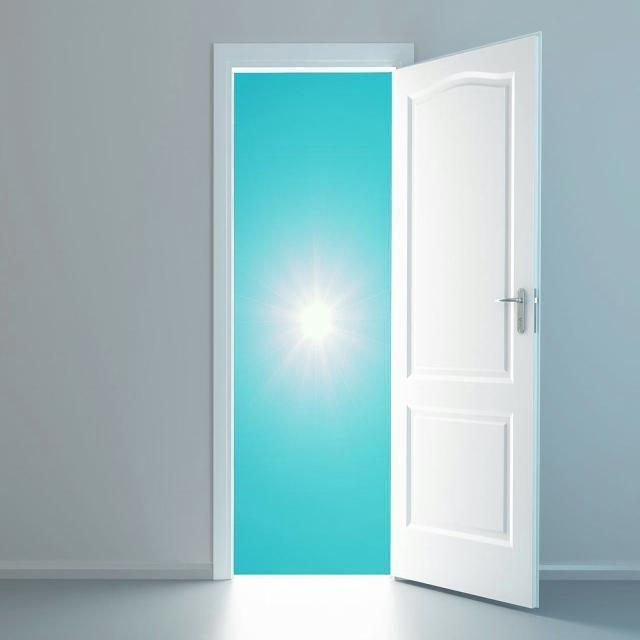door: (390, 31, 541, 609)
